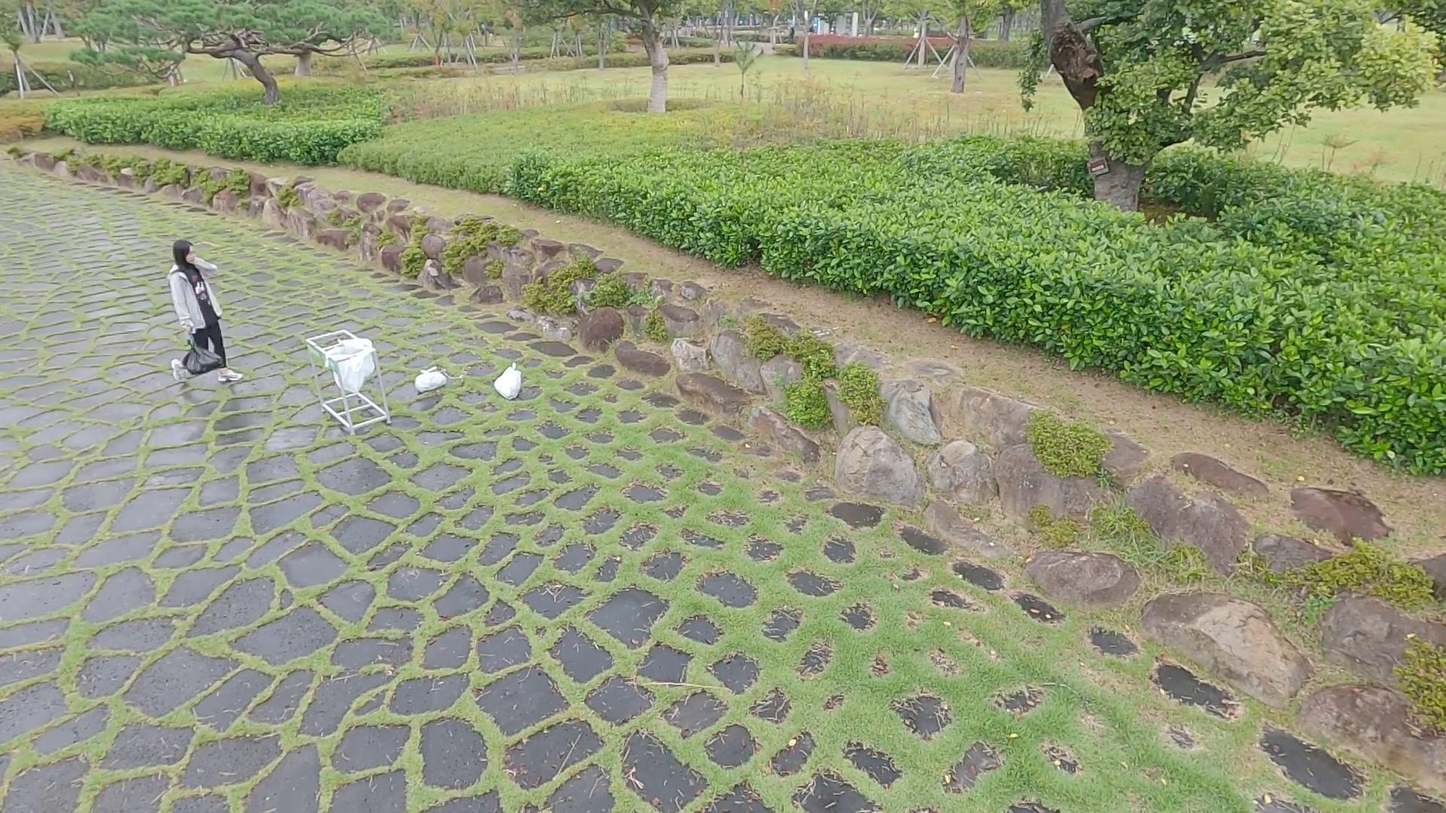person: (164, 239, 241, 381)
trash: (488, 359, 529, 401), (186, 337, 227, 376), (412, 358, 448, 393)
